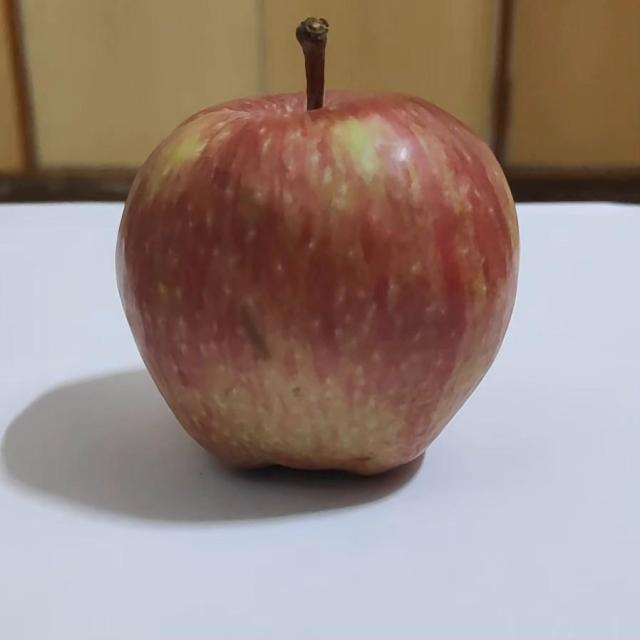Apple: (118, 19, 518, 474)
